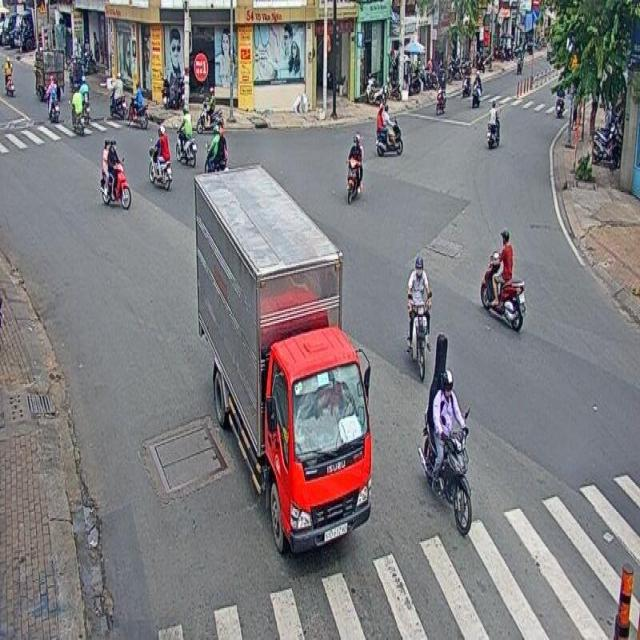motorcycle: (417, 367, 471, 535), (480, 229, 526, 332), (406, 253, 432, 381), (99, 139, 131, 210), (148, 125, 172, 190), (376, 100, 403, 156), (174, 104, 197, 166), (346, 132, 363, 205), (486, 99, 500, 149)
truck: (195, 163, 371, 558)
